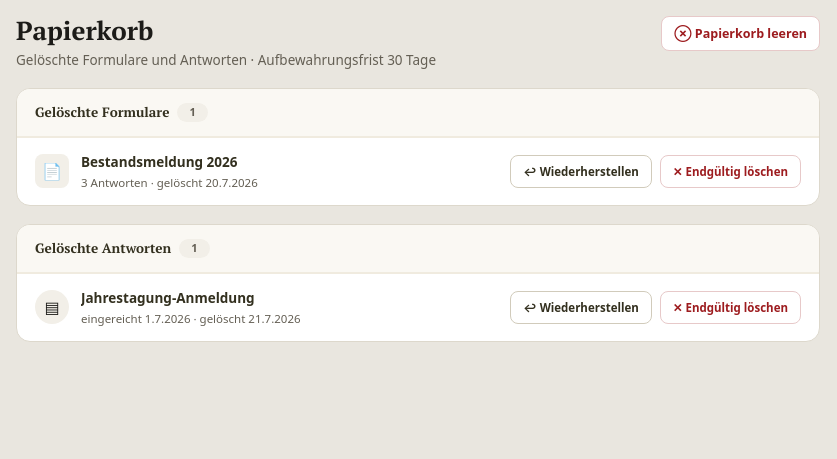
Test: TrashView › mit canPurge › shows the server’s own 403 when Papierkorb leeren is refused, and closes the question
expect the text "Bestandsmeldung 2026" is shown: met, box [81,153,238,171]
Click the button "⊗ Papierkorb leeren" at (741, 34), box [661,16,820,51]
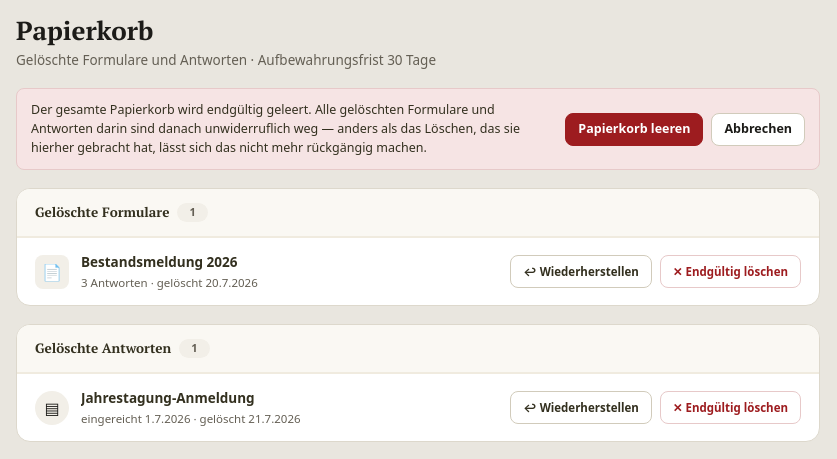
Click the button "Papierkorb leeren" at (634, 129), box [565,113,703,146]
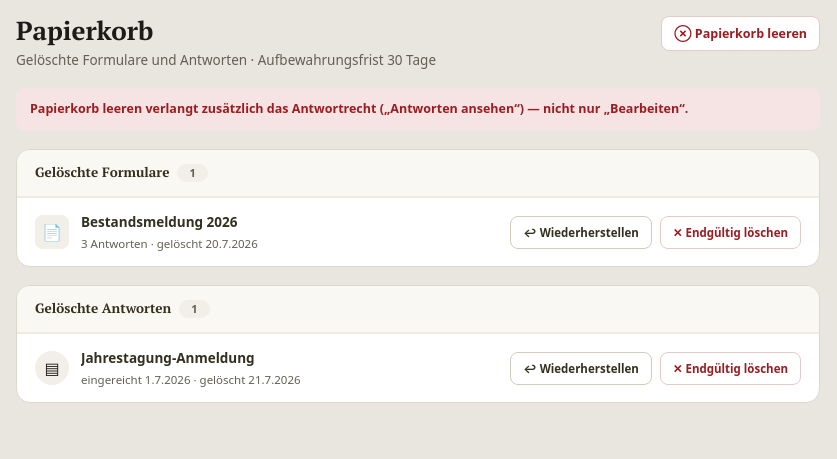
expect the text "Bestandsmeldung 2026" is shown: met, box [81,213,238,231]
expect the message with test id "trash-empty-error" shows "Antwortrecht": met, box [30,100,688,117]
expect the text "nicht mehr rückgängig machen" is gone: met
